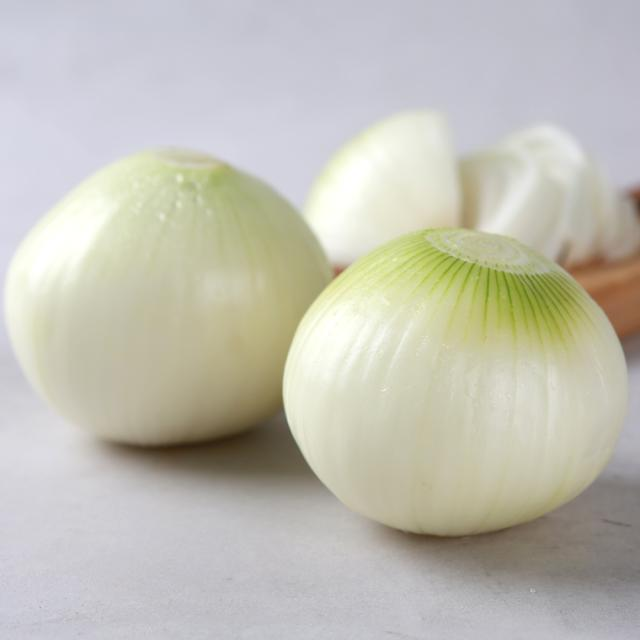onion: (3, 102, 633, 540), (279, 226, 630, 538)
